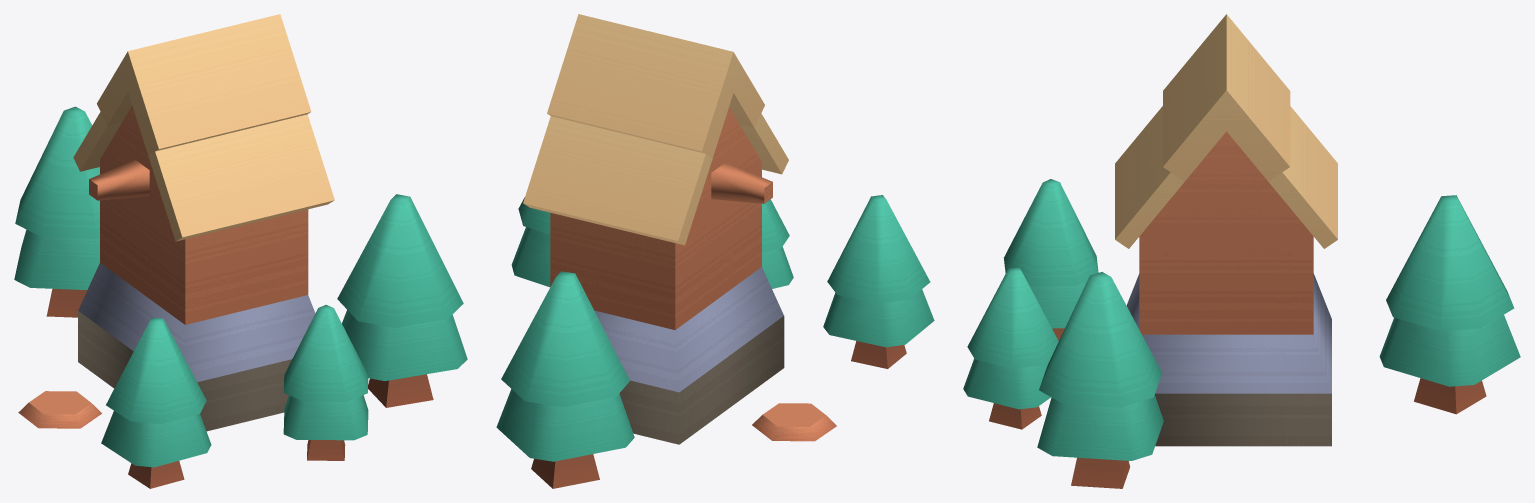
The model's file is hx_building-mill.glb.
3 views of the same model, side by side, from view 1: azimuth 30°, elevation 25°; view 2: azimuth 150°, elevation 25°; view 3: azimuth 270°, elevation 25° (orthographic). The views are drawn at different scales.
Bounding box in the file's own units: 0.7367 × 0.6781 × 0.9596.
Materials: 1 (1 with a texture image).
